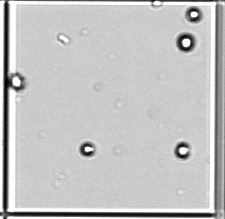Living Cell: (176, 33, 196, 51), (175, 142, 190, 160), (79, 141, 95, 157), (186, 7, 202, 23), (9, 73, 24, 90)
